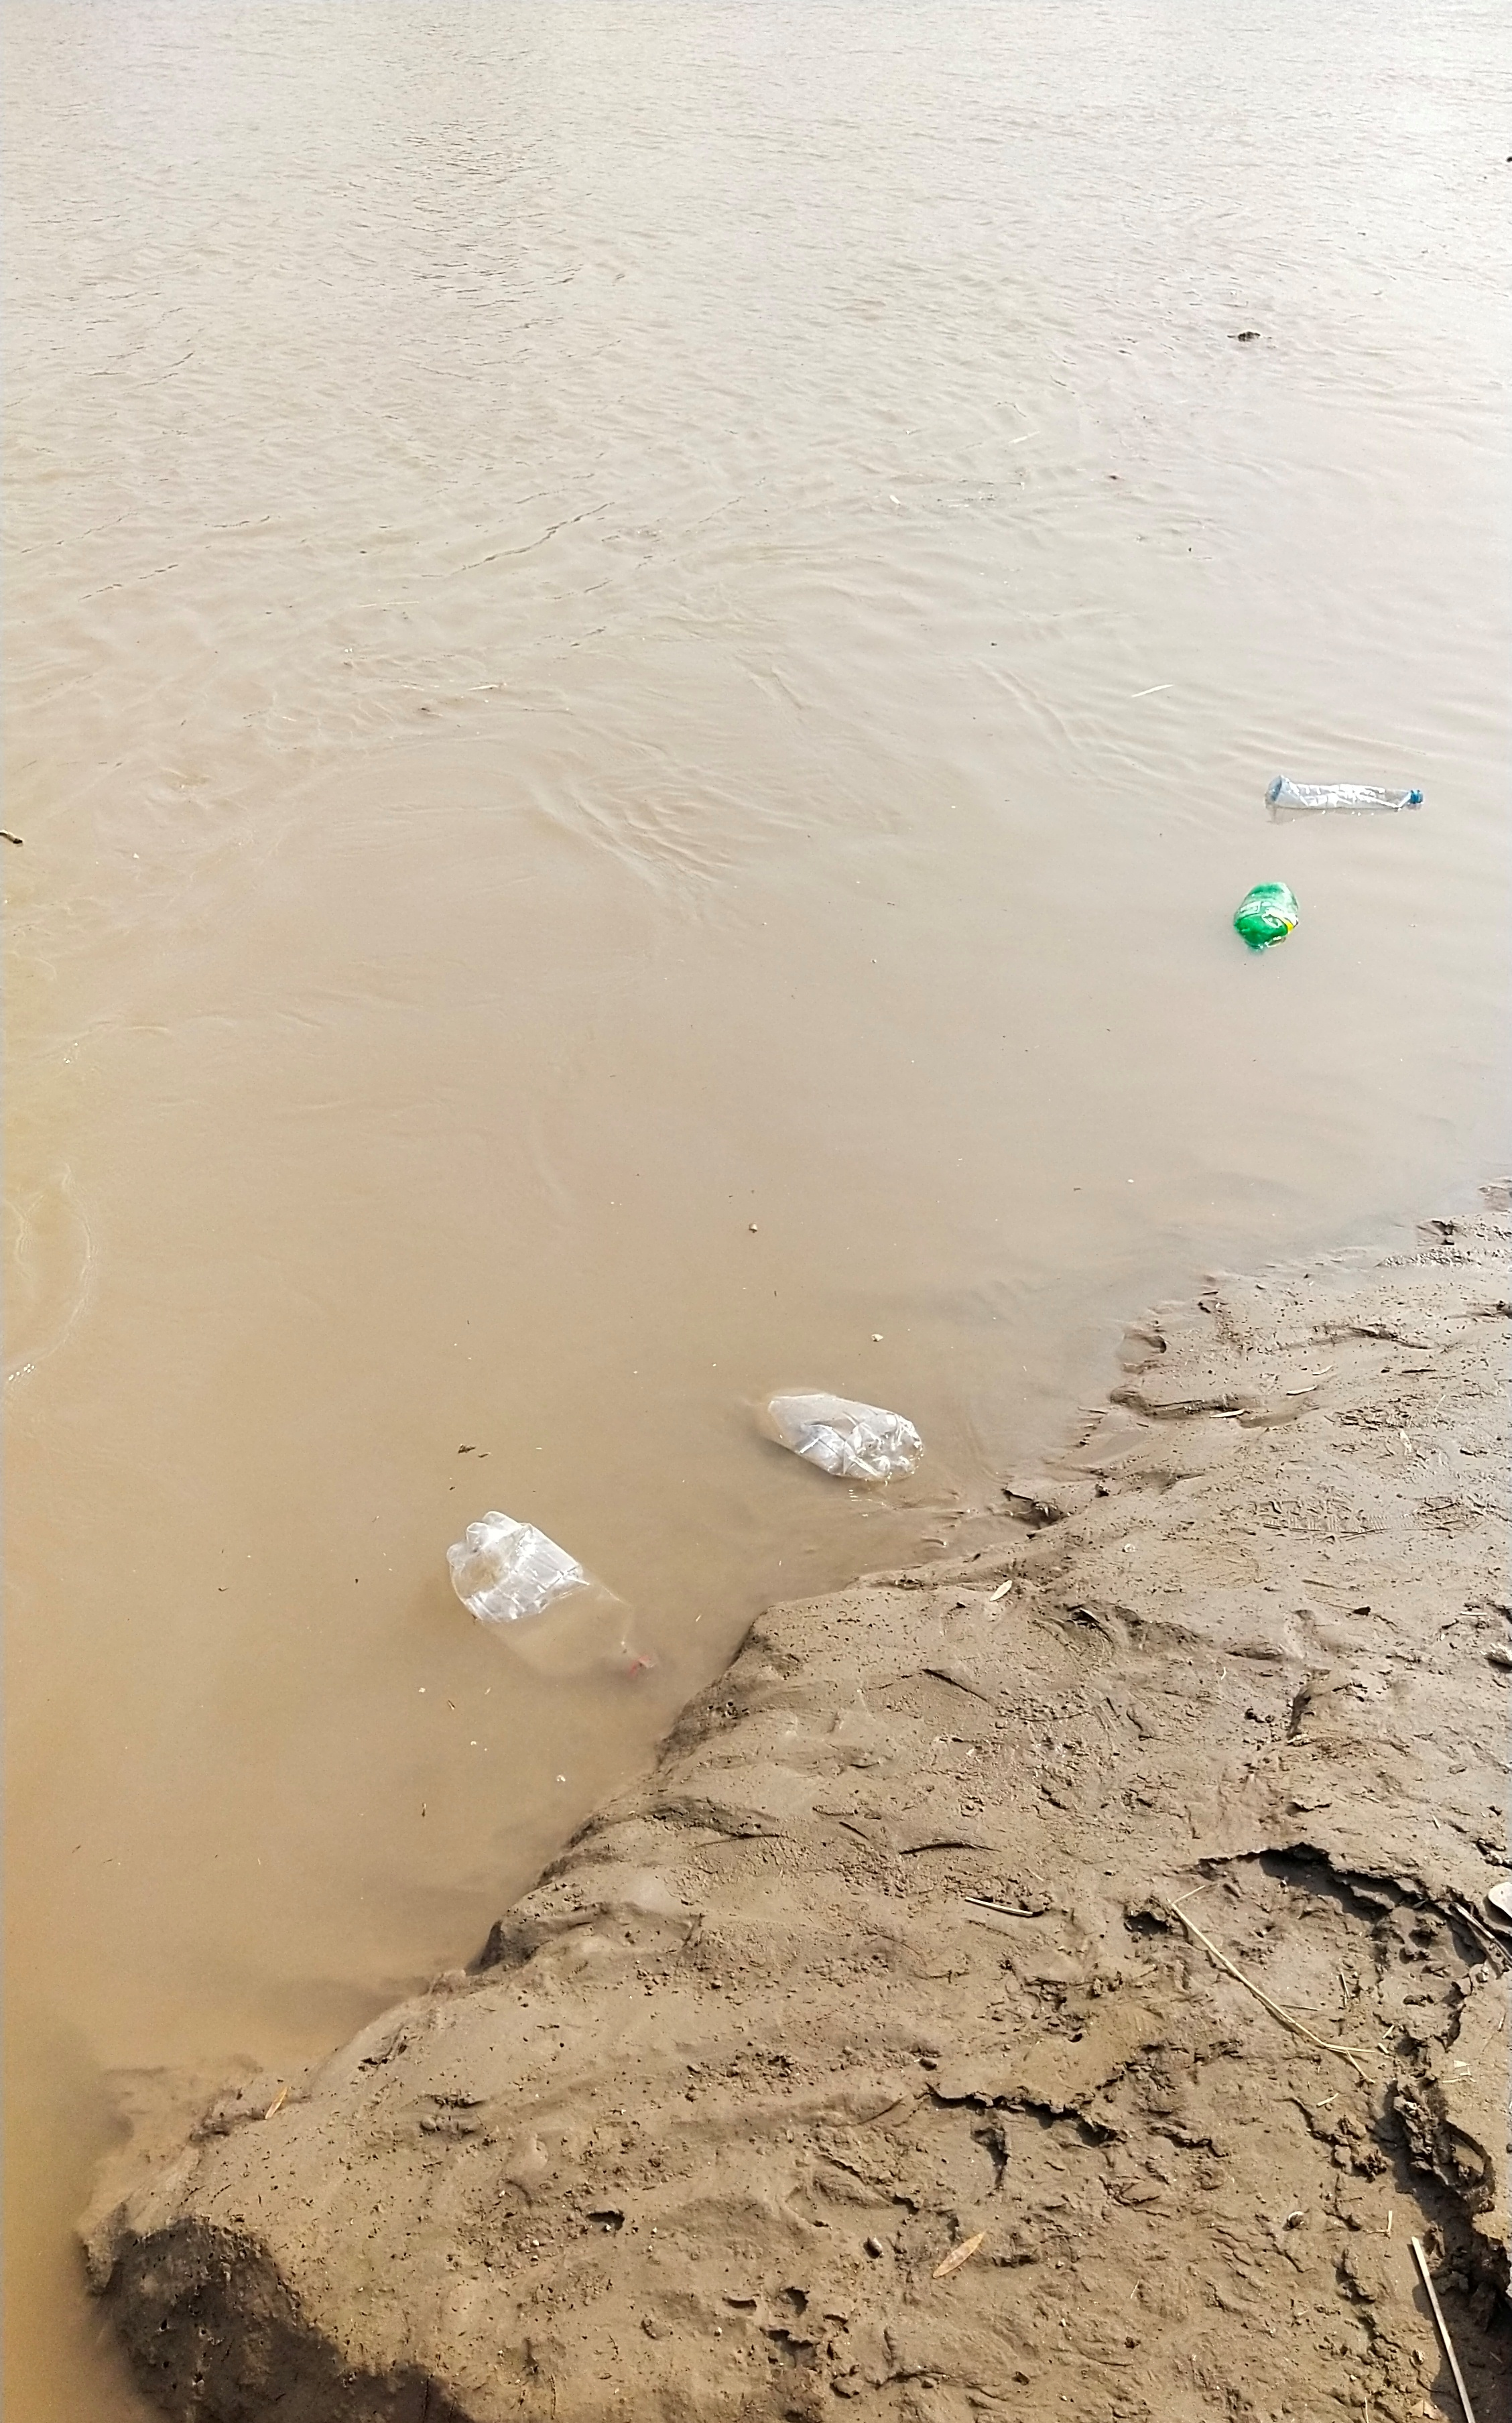Plastic Bottle: (446, 1510, 653, 1683), (756, 1385, 925, 1482), (1268, 773, 1421, 812), (1233, 881, 1298, 953)
